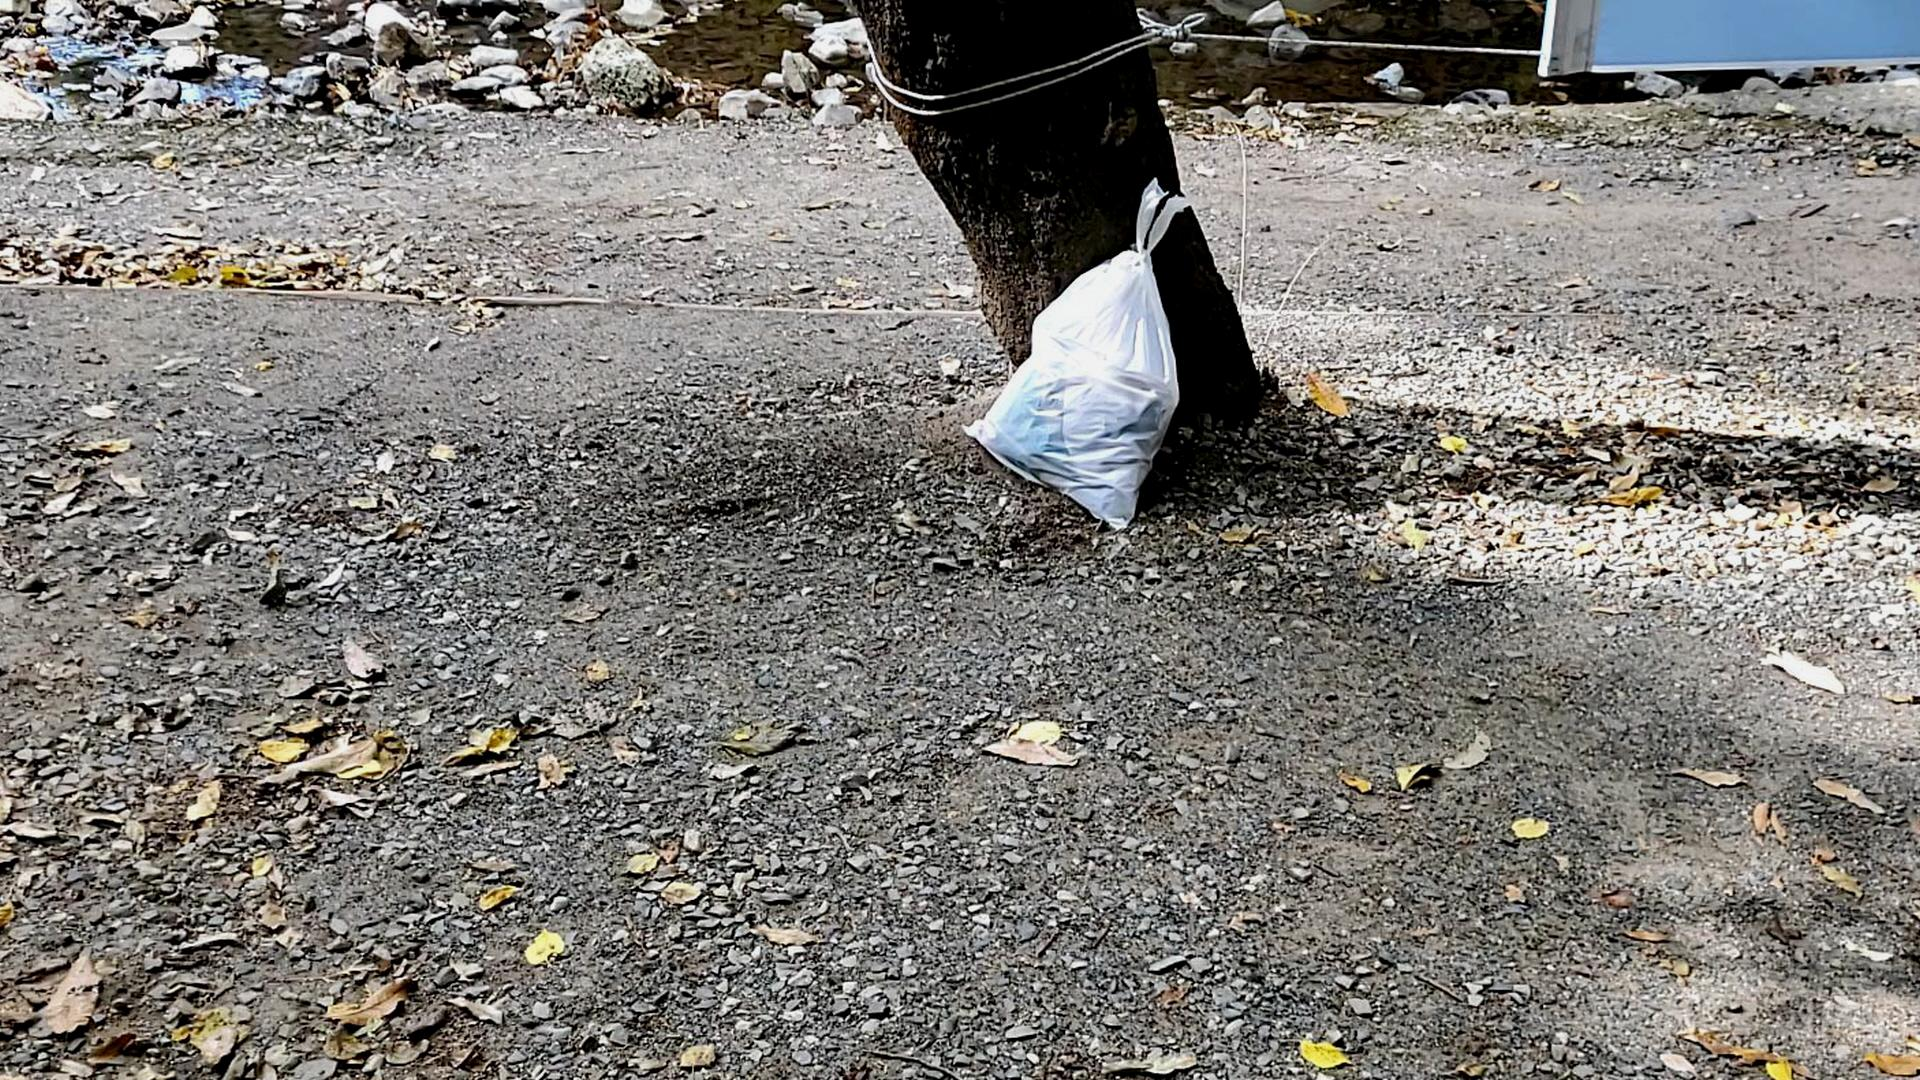white_bag: (938, 156, 1224, 550)
